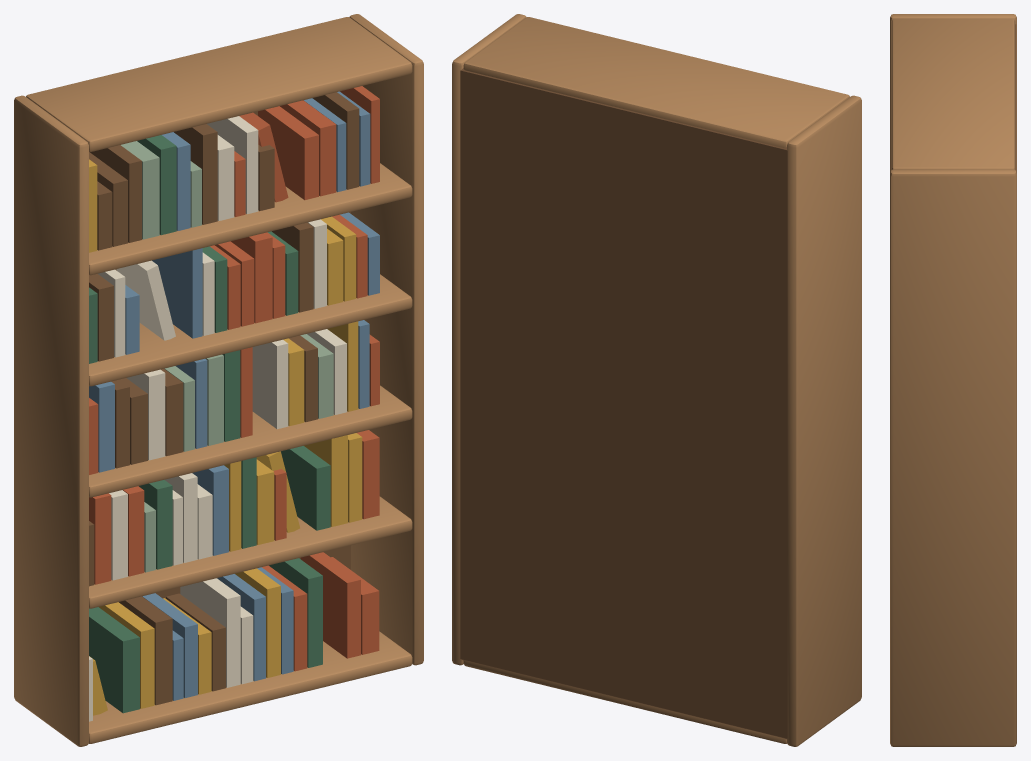
File: bookshelf.glb
The picture shows the model from 3 angles, left to right: view 1: azimuth 30°, elevation 25°; view 2: azimuth 150°, elevation 25°; view 3: azimuth 270°, elevation 25°; orthographic projection. The views are drawn at different scales.
Visible parts, largest first — view 1: FURN-bookshelf; view 2: FURN-bookshelf; view 3: FURN-bookshelf.
Boxes of the visible parts, x1,y1,x2,y2 form: FURN-bookshelf: [14, 14, 423, 746]; FURN-bookshelf: [452, 14, 861, 746]; FURN-bookshelf: [890, 14, 1016, 746].
Bounding box in the file's own units: 1.2 × 2 × 0.4.
